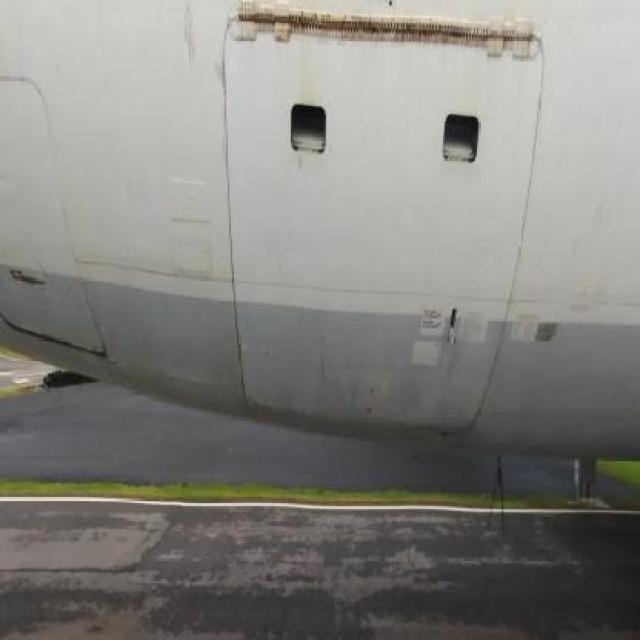Rust: (232, 5, 552, 70), (180, 11, 203, 72)
Scartch: (214, 46, 226, 111)
